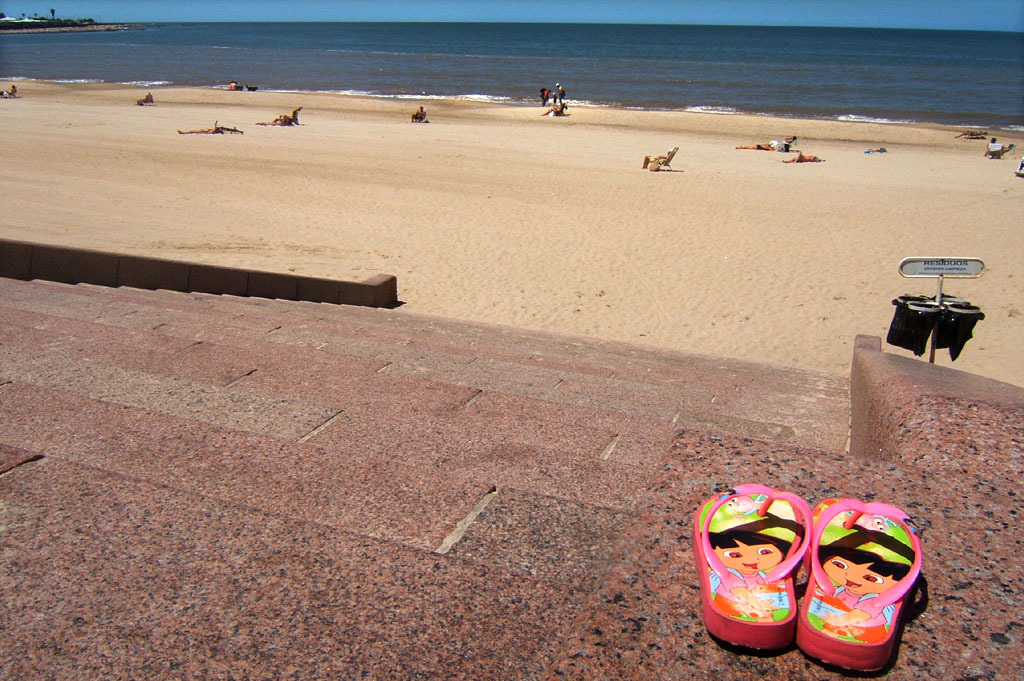Footwear: (794, 497, 919, 680), (693, 478, 811, 659)
